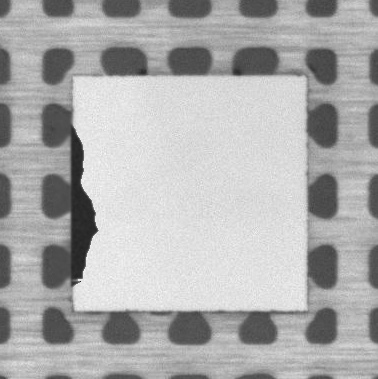DIE_BROKEN: (67, 123, 101, 288)
